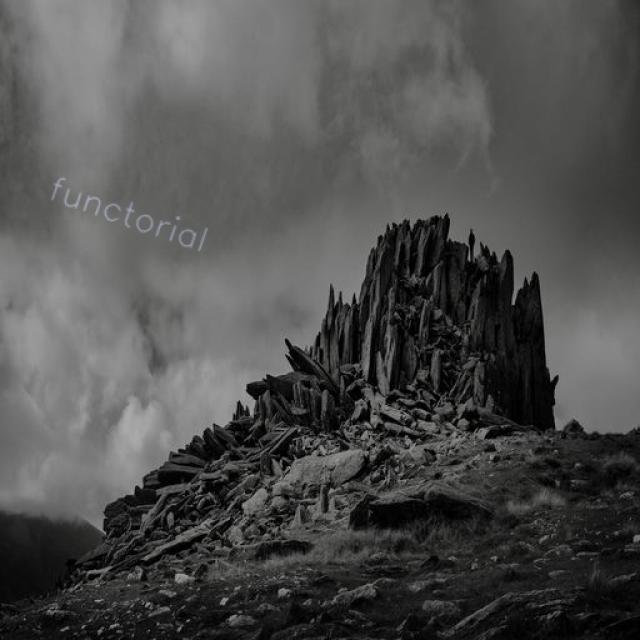watermark: (38, 171, 227, 258)
